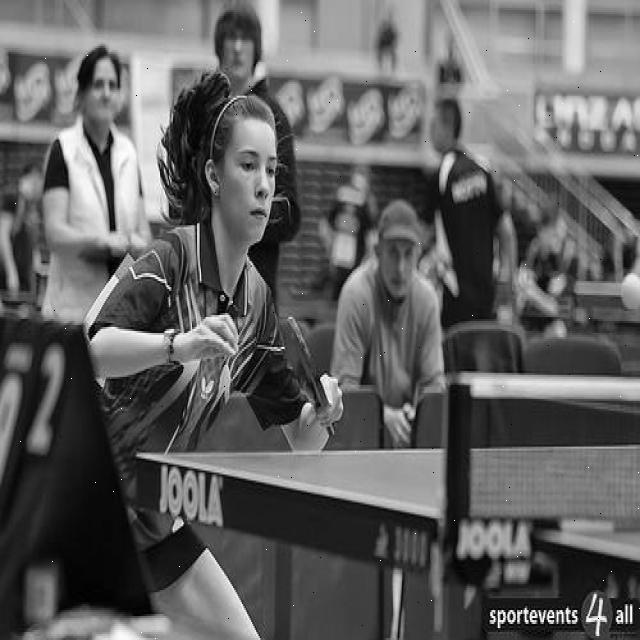ping-pong-ball: (620, 274, 640, 310)
